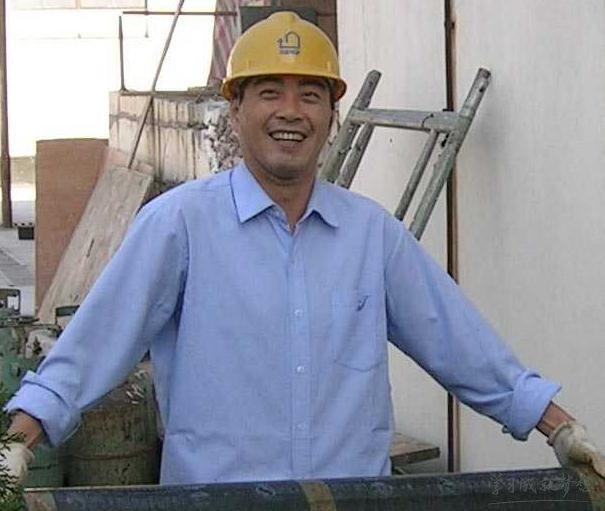helmet: (222, 10, 351, 99)
